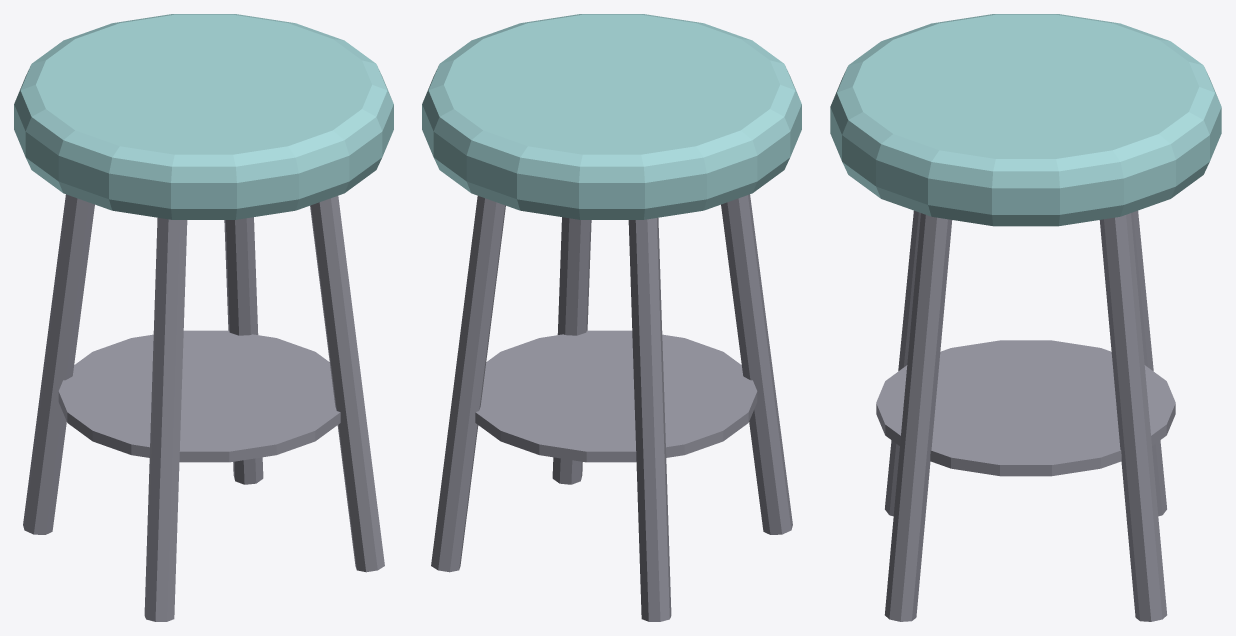
The model's file is deco_sgabello_01.glb.
The picture shows the model from 3 angles, left to right: view 1: azimuth 30°, elevation 25°; view 2: azimuth 150°, elevation 25°; view 3: azimuth 270°, elevation 25°; orthographic projection. The views are drawn at different scales.
Parts seen in each view (by area): view 1: deco_sgabello_01; view 2: deco_sgabello_01; view 3: deco_sgabello_01.
Part boxes in pixels (x1,y1,x2,y2): deco_sgabello_01: (14, 14, 393, 621); deco_sgabello_01: (422, 14, 801, 621); deco_sgabello_01: (830, 14, 1221, 621).
Size of the model in its own units: 0.3151 by 0.4315 by 0.32.
